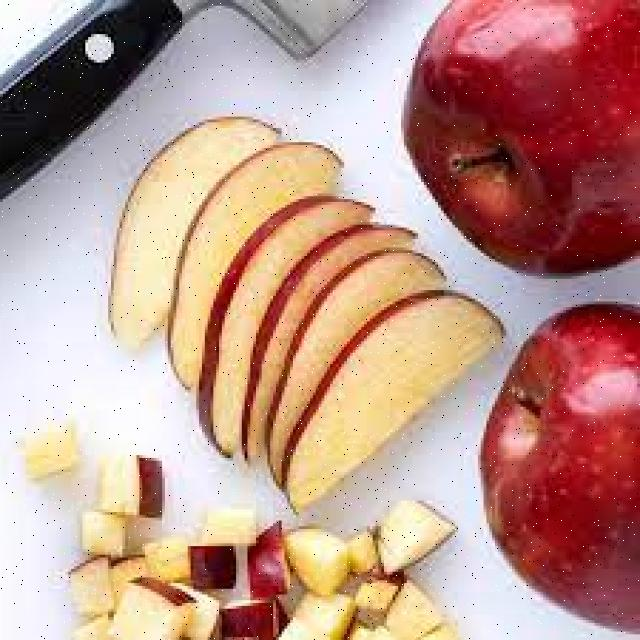Apple: (406, 2, 640, 274), (481, 296, 640, 634), (287, 291, 505, 524), (111, 125, 270, 344)
